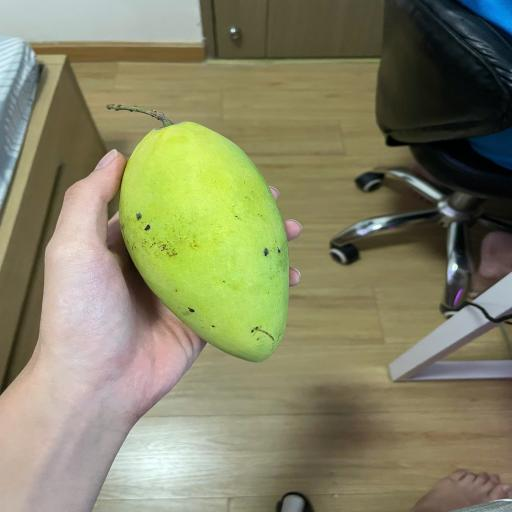xoai: (119, 122, 289, 362)
